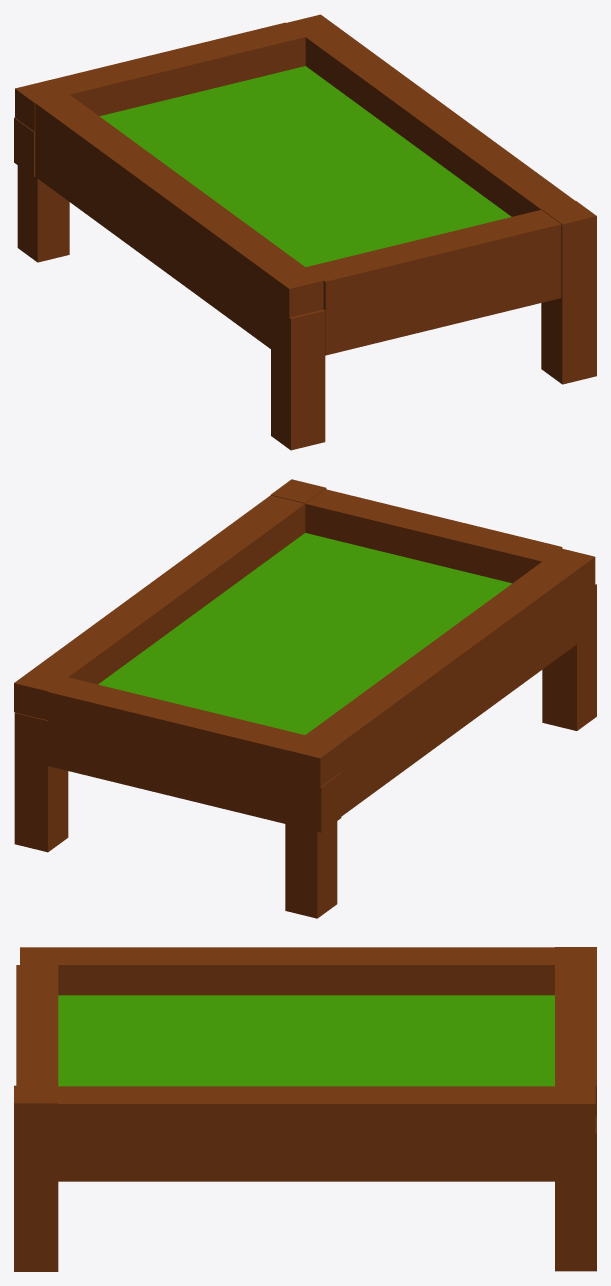
File: Pool table done.fbx
3 views of the same model, one above another, from view 1: azimuth 30°, elevation 25°; view 2: azimuth 150°, elevation 25°; view 3: azimuth 270°, elevation 25° (orthographic). The views are drawn at different scales.
Parts seen in each view (by area): view 1: Cube; view 2: Cube; view 3: Cube.
Boxes of the visible parts, left/top/right/bottom form: Cube: left=14, top=14, right=596, bottom=450; Cube: left=14, top=479, right=596, bottom=918; Cube: left=14, top=947, right=596, bottom=1271.
Size of the model in its own units: 4.43 by 2.23 by 6.94.
